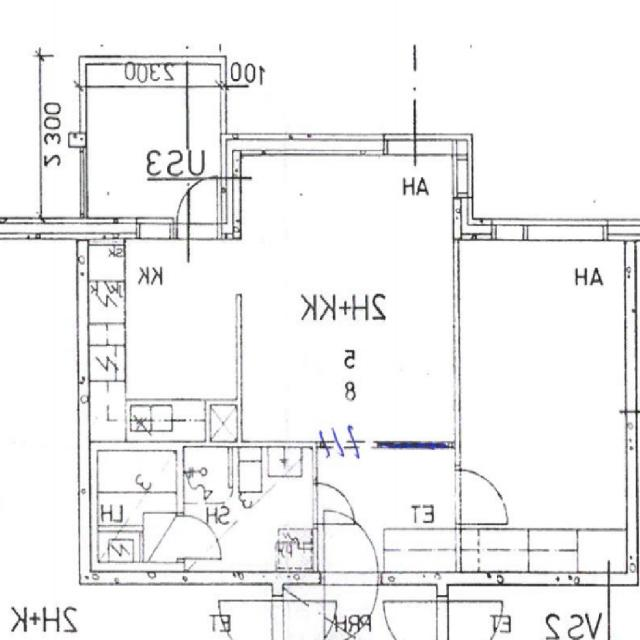door: (324, 507, 379, 584), (325, 570, 379, 640), (176, 168, 218, 238), (453, 470, 505, 522), (176, 516, 222, 558), (313, 482, 353, 524)
